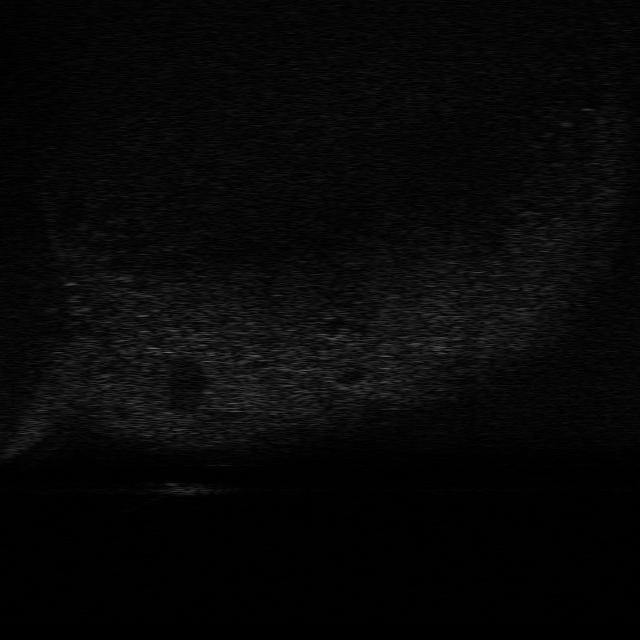cube: (144, 481, 211, 498)
